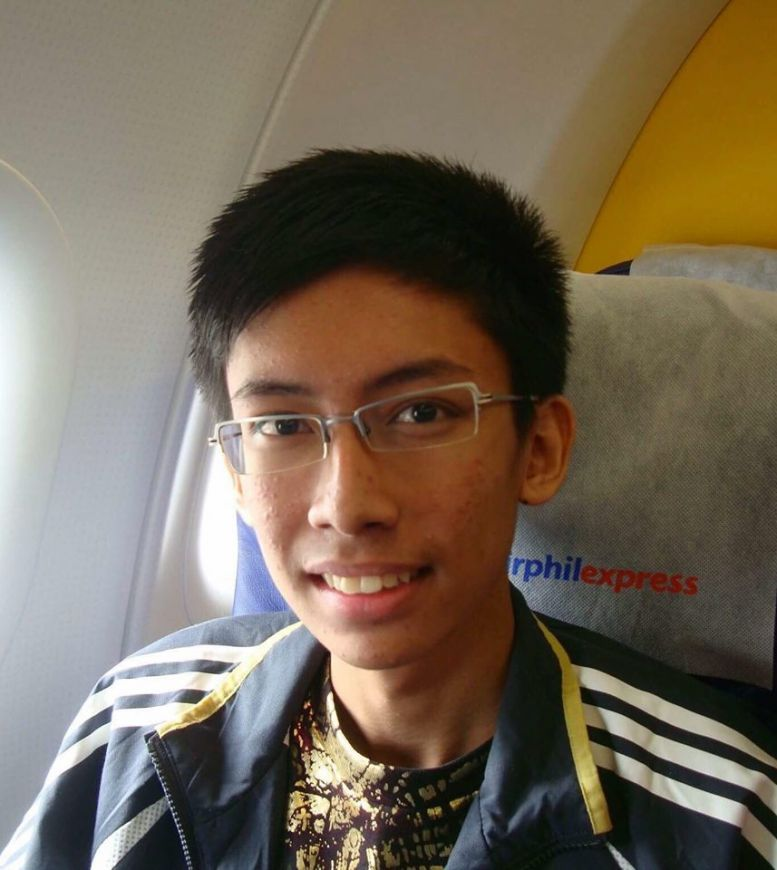people: (169, 155, 590, 870)
